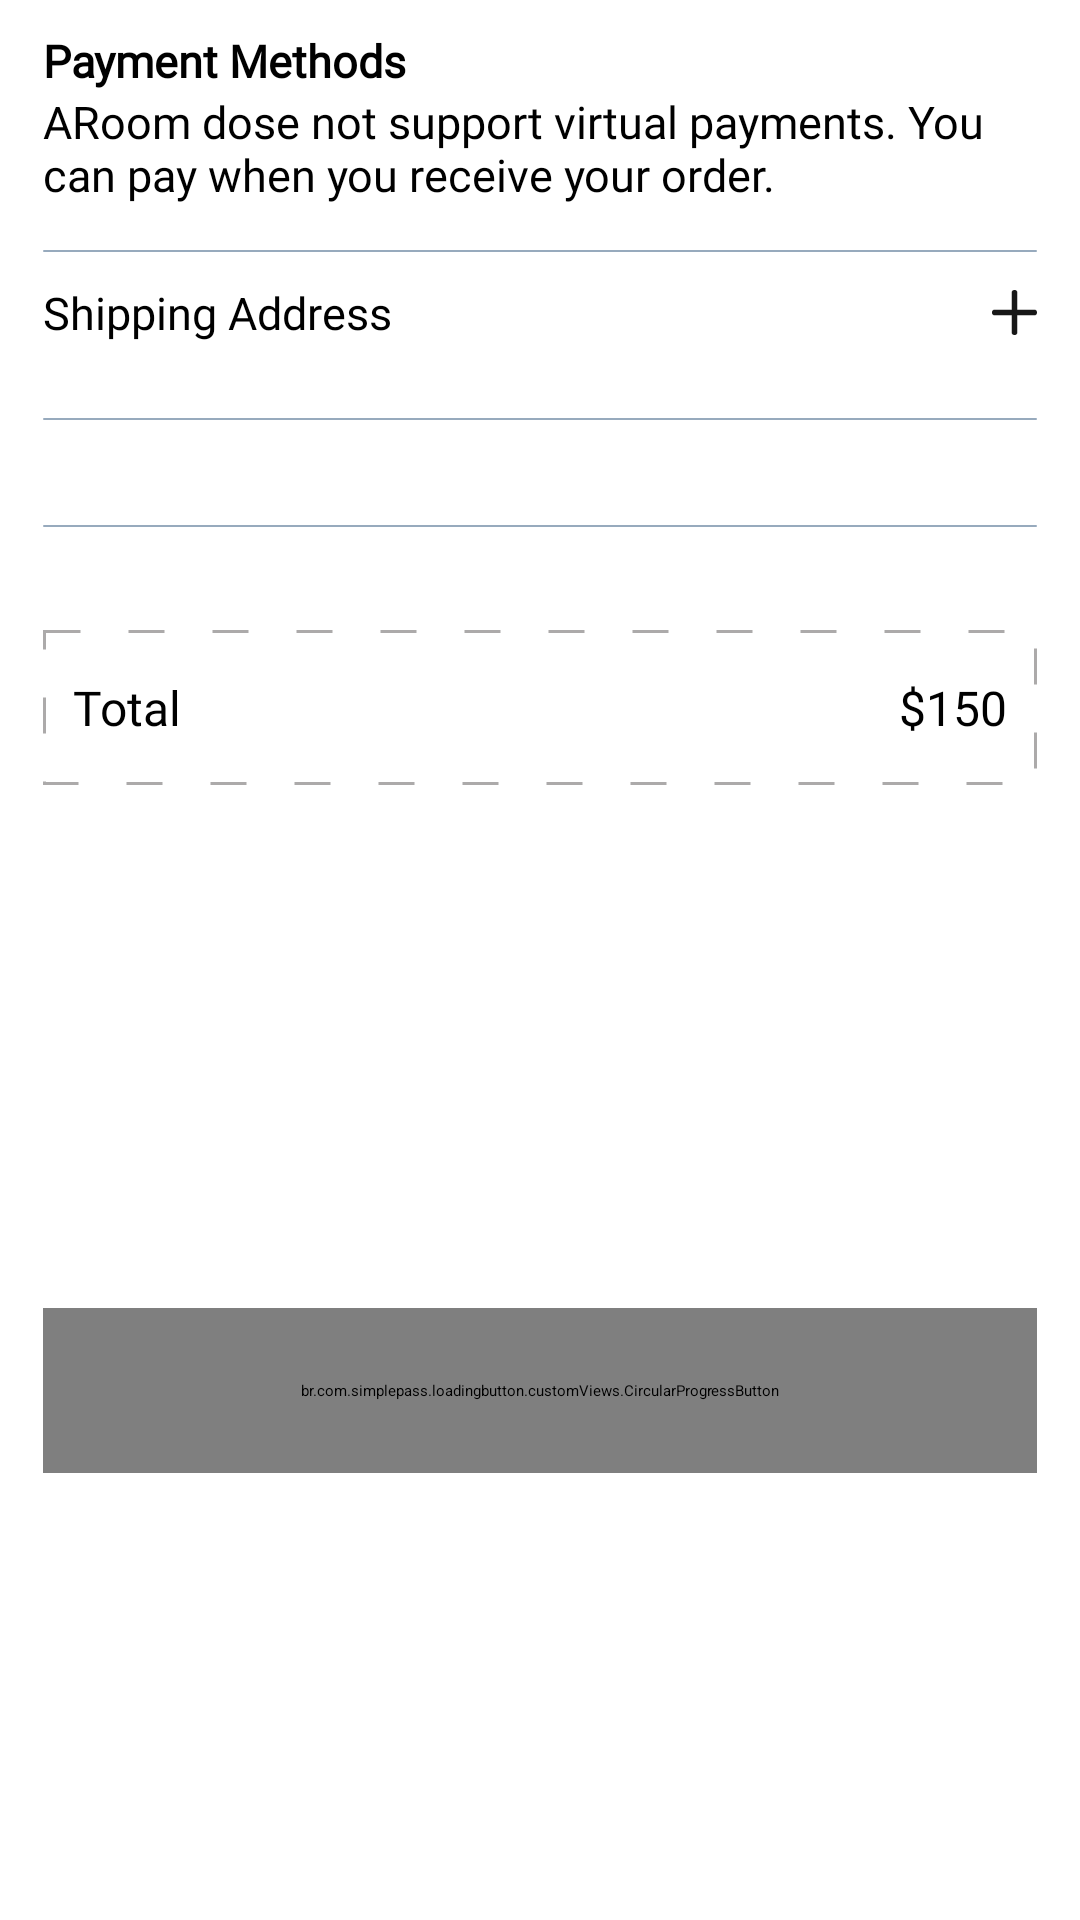

Screen size 1080px×1920px. Icon name, then its box in pixels as (x1, y1, x2, y2):
add: (992, 290, 1037, 335)
